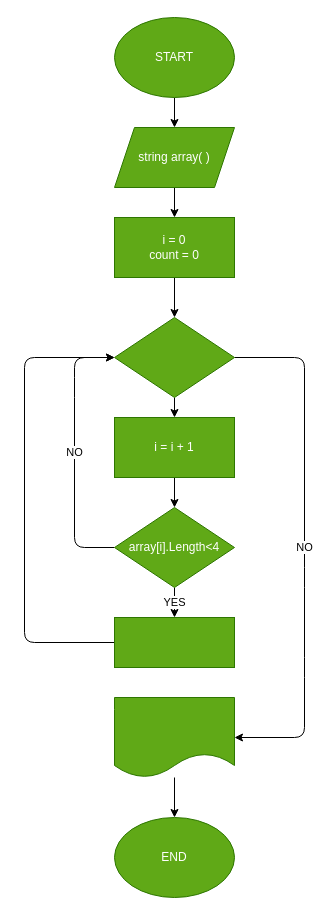
Some shapes in this 330 by 915 pixel diagram are drawn without their labels. The shapes that lost their labels are listed below. From the top down, each one's box as (x1, y1, x2, y2) in pixels, then its label:
(114, 316, 234, 398): i < array.Length
(114, 616, 234, 668): count = count + 1
(114, 696, 234, 778): count
